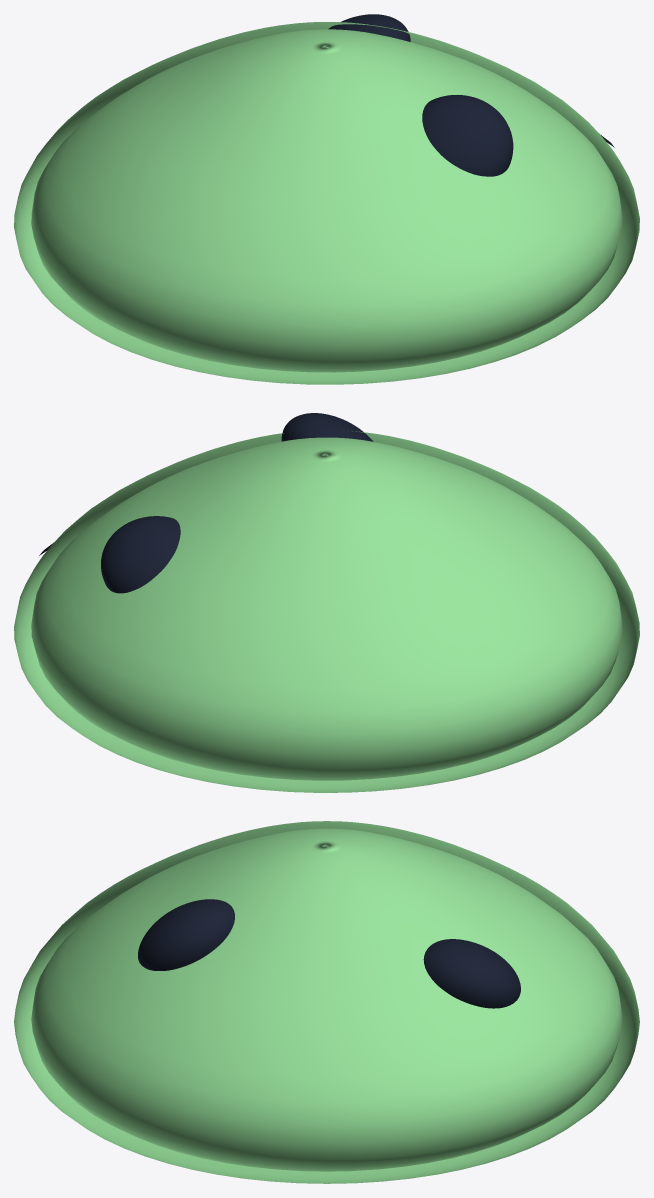
The model's file is SlimeBasicModel.glb.
The picture shows the model from 3 angles, top to bottom: view 1: azimuth 30°, elevation 25°; view 2: azimuth 150°, elevation 25°; view 3: azimuth 270°, elevation 25°; orthographic projection.
Parts seen in each view (by area): view 1: InnerSkin; view 2: InnerSkin; view 3: InnerSkin.
Boxes of the visible parts, x1,y1,x2,y2 form: InnerSkin: [14, 14, 639, 384]; InnerSkin: [14, 413, 639, 792]; InnerSkin: [14, 821, 639, 1183].
Bounding box in the file's own units: 0.869 × 0.3505 × 0.869.
